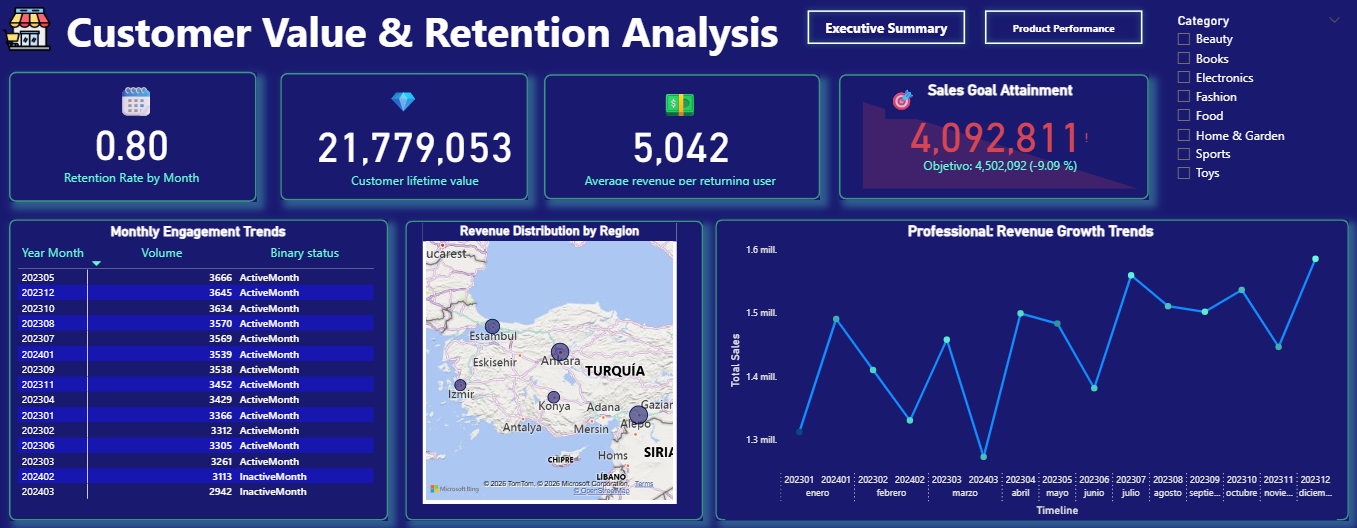

This screenshot's page, from the dashboard's own definition file:
{"tool":"powerbi","page":{"name":"Product Performance","canvas":[1800,720],"ordinal":1},"visuals":[{"type":"shape","box":[1106,106.4,405.3,163.8],"z":0},{"type":"shape","box":[19.1,296.3,496,394.3],"z":1000},{"type":"shape","box":[19.2,102.9,323.8,170.2],"z":2000},{"type":"pivotTable","title":"Monthly Engagement Trends","fields":{"Rows":["bi dim_date.YearMonth"],"Values":["bi fact_sales.Total_Quantity_Sold","bi dim_customers.Flag_Total_Quantity"]},"box":[26.7,301.4,482,368.8],"z":3000},{"type":"card","fields":{"Values":["bi dim_customers.Active_Month_Ratio"]},"box":[35.6,148.8,288.7,108.1],"z":4000},{"type":"shape","box":[537.9,297.8,389.7,392.5],"z":5000},{"type":"map","title":"Revenue Distribution by Region","fields":{"Size":["bi fact_sales.Total_Sales"],"Category":["bi dim_customers.city"]},"box":[560.9,301.4,331.9,367.6],"z":6000},{"type":"kpi","title":"Sales Goal Attainment","fields":{"TrendLine":["bi dim_date.year"],"Indicator":["bi fact_sales.Total_Sales"],"Goal":["bi dim_customers.KPI_destiny_2"]},"box":[1131.3,116.5,369.8,145.2],"z":7000},{"type":"shape","box":[0,0,1400.8,85.2],"z":8000},{"type":"textbox","box":[89.5,8.4,954,86.1],"z":9000},{"type":"image","box":[0,10.1,86.1,74.3],"z":10000},{"type":"textbox","box":[1000.9,105.6,42,49.6],"z":11000},{"type":"textbox","box":[155.2,110.6,72.5,62.3],"z":12000},{"type":"shape","box":[373.9,104.3,324.3,166.6],"z":13000},{"type":"card","fields":{"Values":["bi fact_sales.Customer_lifetime_value"]},"box":[407,155.2,287.4,101.7],"z":14000},{"type":"shape","box":[719.3,106.4,361.4,163.8],"z":15000},{"type":"card","fields":{"Values":["bi fact_sales.Revenue_per_returning_Customer"]},"box":[739.6,155.3,317.4,101.3],"z":16000},{"type":"textbox","box":[508.7,110.6,52.1,52.1],"z":17000},{"type":"textbox","box":[867.4,110.6,71.2,62.3],"z":18000},{"type":"textbox","box":[1165.1,116.5,43.9,49],"z":19000},{"type":"shape","box":[20.5,717.5,712.3,276.1],"z":20000},{"type":"lineChart","fields":{"Y":["bi fact_sales.Total_Sales"],"Category":["bi dim_date.date_id.Variación.Jerarquía de fechas.Mes","bi dim_date.YearMonth"]},"box":[34.1,729.4,661.2,231.8],"z":21000},{"type":"slicer","fields":{"Values":["bi dim_products.product_category"]},"box":[1534.9,22,238.1,239.8],"z":22000},{"type":"shape","box":[761.8,717.5,611.8,276.1],"z":23000},{"type":"clusteredBarChart","fields":{"Y":["Sum(bi fact_sales.pages_viewed_website)"],"Category":["bi dim_products.product_category"]},"box":[780.5,729.4,560.7,247.1],"z":24000},{"type":"shape","box":[943.5,296,829,394.1],"z":25000},{"type":"lineChart","title":"Professional: Revenue Growth Trends","fields":{"Y":["bi fact_sales.Total_Sales"],"Category":["bi dim_date.date_id.Variación.Jerarquía de fechas.Mes","bi dim_date.YearMonth"]},"box":[956.6,300.9,799.6,389.2],"z":26000},{"type":"pageNavigator","box":[1057,15.2,454.2,60.8],"z":27000}]}

Visuals, with their boxes in screenshot pixels (x1, y1, x2, y2), scaled from the page's 1800x720 canvas onto the 1357x528 screenshot:
shape: <box>834,78,1139,198</box>
shape: <box>14,217,388,506</box>
shape: <box>14,75,259,200</box>
"Monthly Engagement Trends" pivotTable: <box>20,221,384,491</box>
card - bi dim_customers.Active_Month_Ratio: <box>27,109,244,188</box>
shape: <box>406,218,699,506</box>
"Revenue Distribution by Region" map: <box>423,221,673,491</box>
"Sales Goal Attainment" kpi: <box>853,85,1132,192</box>
shape: <box>0,0,1056,62</box>
textbox: <box>67,6,787,69</box>
image: <box>0,7,65,62</box>
textbox: <box>755,77,786,114</box>
textbox: <box>117,81,172,127</box>
shape: <box>282,76,526,199</box>
card - bi fact_sales.Customer_lifetime_value: <box>307,114,524,188</box>
shape: <box>542,78,815,198</box>
card - bi fact_sales.Revenue_per_returning_Customer: <box>558,114,797,188</box>
textbox: <box>384,81,423,119</box>
textbox: <box>654,81,708,127</box>
textbox: <box>878,85,911,121</box>
shape: <box>15,526,552,527</box>
slicer - bi dim_products.product_category: <box>1157,16,1337,192</box>
shape: <box>574,526,1036,527</box>
shape: <box>711,217,1336,506</box>
"Professional: Revenue Growth Trends" lineChart: <box>721,221,1324,506</box>
pageNavigator: <box>797,11,1139,56</box>
